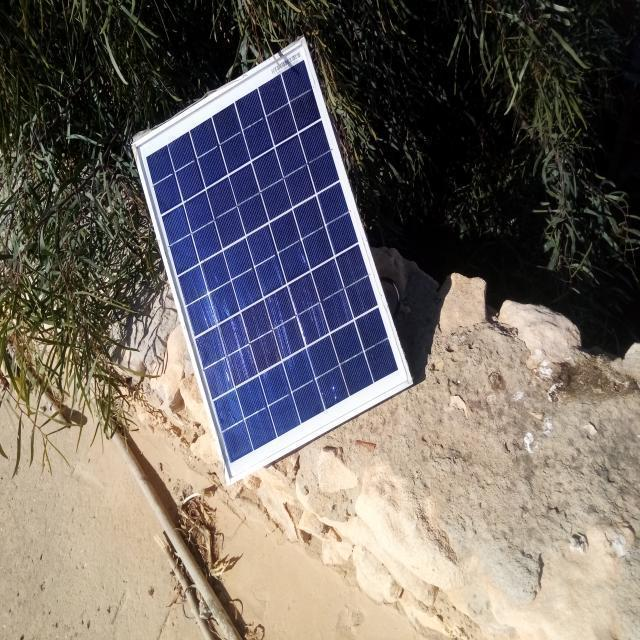Normal Solar Panel: (133, 37, 413, 486)
